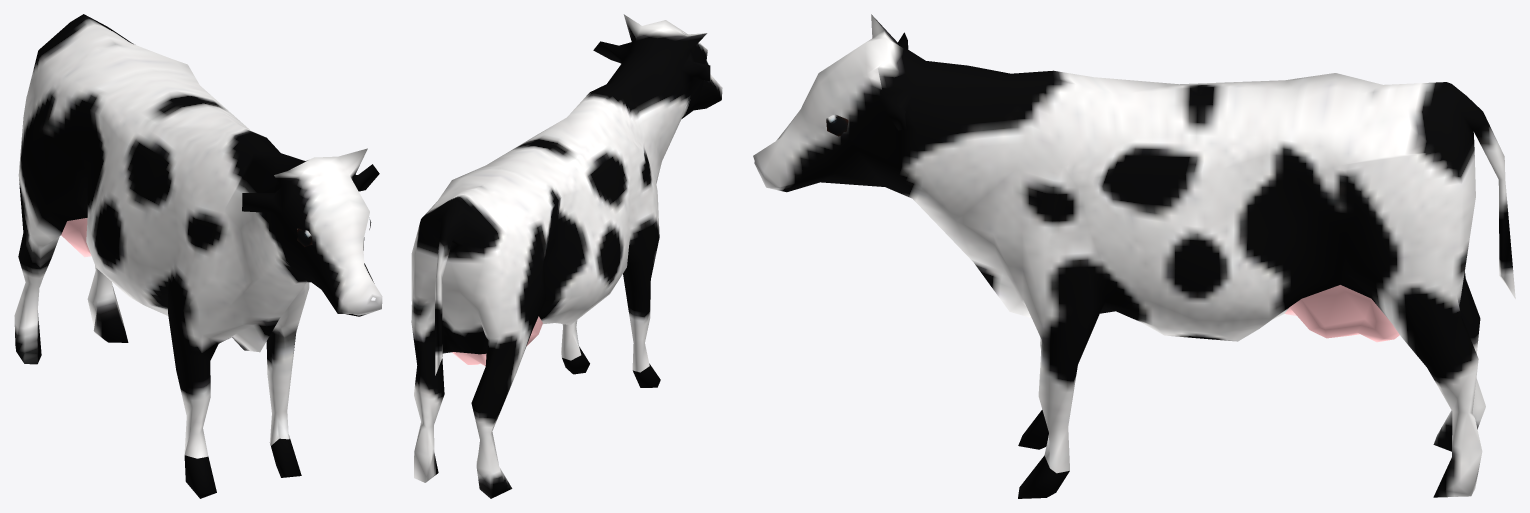
The model's file is 901bceff-7c11-4093-a49b-029d81375bdb.glb.
3 views of the same model, side by side, from view 1: azimuth 30°, elevation 25°; view 2: azimuth 150°, elevation 25°; view 3: azimuth 270°, elevation 25° (orthographic). The views are drawn at different scales.
Parts seen in each view (by area): view 1: Cow01; view 2: Cow01; view 3: Cow01.
Boxes of the visible parts, bbox=[...] form: Cow01: bbox=[14, 14, 382, 498]; Cow01: bbox=[411, 14, 722, 498]; Cow01: bbox=[753, 14, 1515, 498].
Size of what is drawn, in the model's own units: 0.7433 by 1.71 by 2.7.
Materials: 1 (1 with a texture image).
